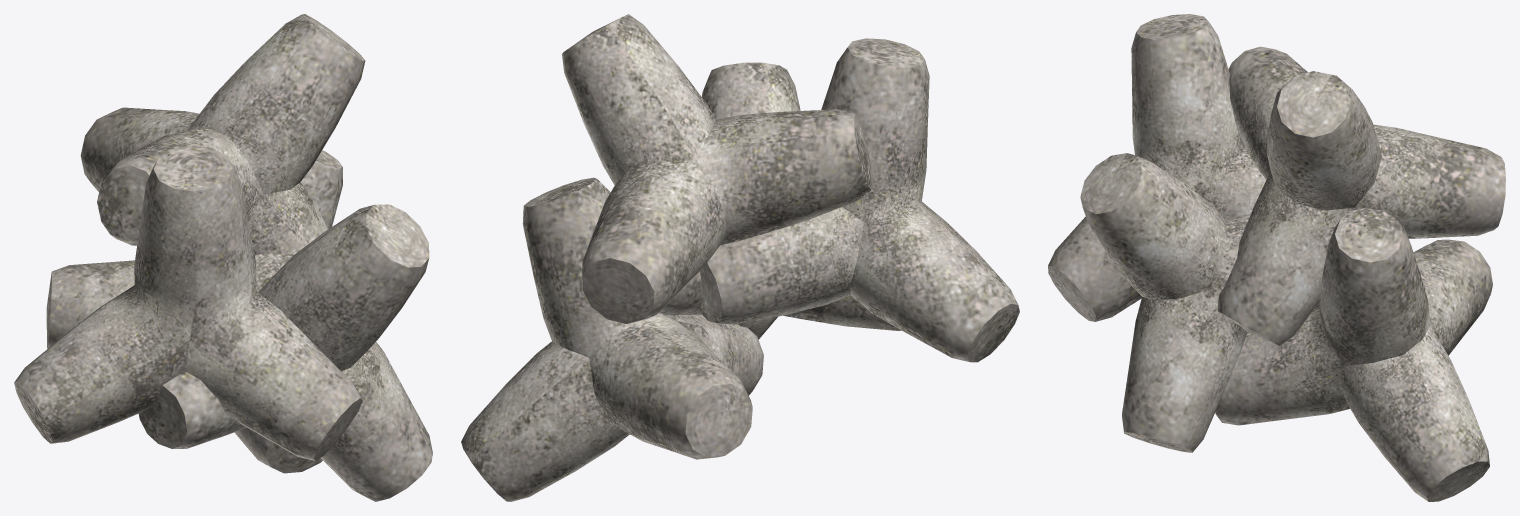
File: patterntetrapod.FBX
The picture shows the model from 3 angles, left to right: view 1: azimuth 30°, elevation 25°; view 2: azimuth 150°, elevation 25°; view 3: azimuth 270°, elevation 25°; orthographic projection. The views are drawn at different scales.
Parts seen in each view (by area): view 1: Object003; view 2: Object003; view 3: Object003.
Part boxes in pixels (left/top/right/bottom): Object003: left=14, top=14, right=432, bottom=501; Object003: left=461, top=14, right=1019, bottom=501; Object003: left=1048, top=14, right=1505, bottom=501.
Bounding box in the file's own units: 301 × 300 × 304.
